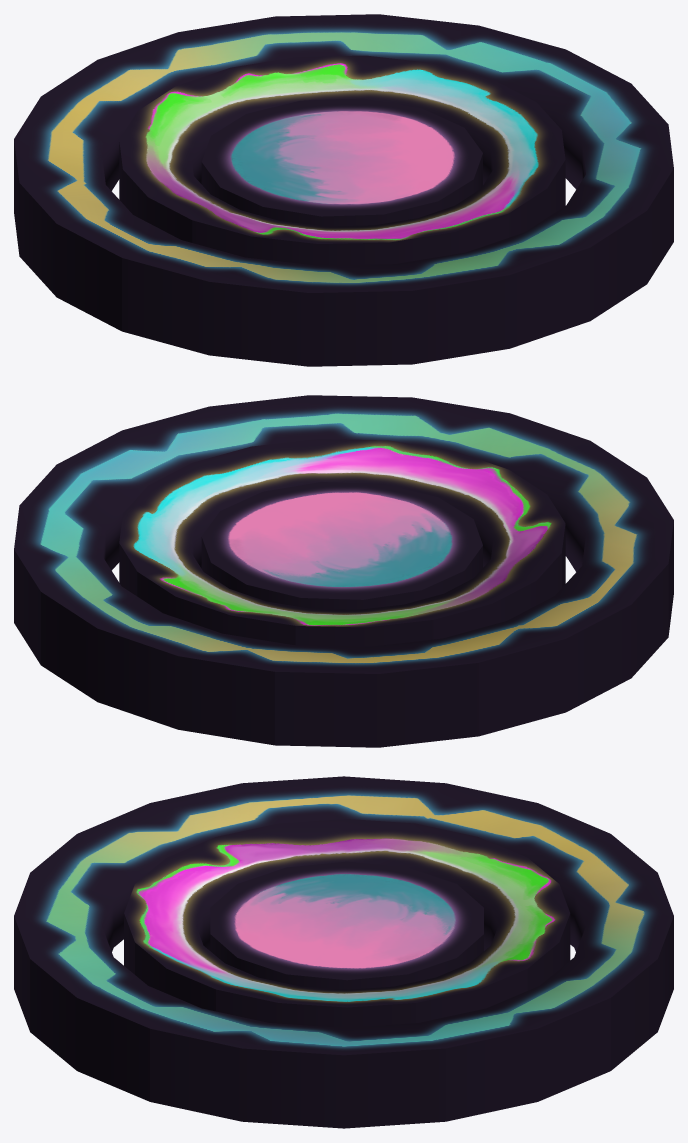
Rendered from FBX_PLAYER.fbx.
The picture shows the model from 3 angles, top to bottom: view 1: azimuth 30°, elevation 25°; view 2: azimuth 150°, elevation 25°; view 3: azimuth 270°, elevation 25°; orthographic projection.
Visible parts, largest first — view 1: PLAYER3, PLAYER2, PLAYER1; view 2: PLAYER3, PLAYER2, PLAYER1; view 3: PLAYER3, PLAYER2, PLAYER1.
Part boxes in pixels (x1,y1,x2,y2): PLAYER3: [14, 14, 673, 366]; PLAYER2: [119, 55, 565, 265]; PLAYER1: [201, 98, 482, 226]; PLAYER3: [14, 395, 673, 747]; PLAYER2: [119, 439, 565, 646]; PLAYER1: [201, 482, 482, 609]; PLAYER3: [14, 776, 673, 1128]; PLAYER2: [124, 819, 570, 1027]; PLAYER1: [210, 861, 483, 989].
Bounding box in the file's own units: 8.27 × 1.09 × 8.27.
